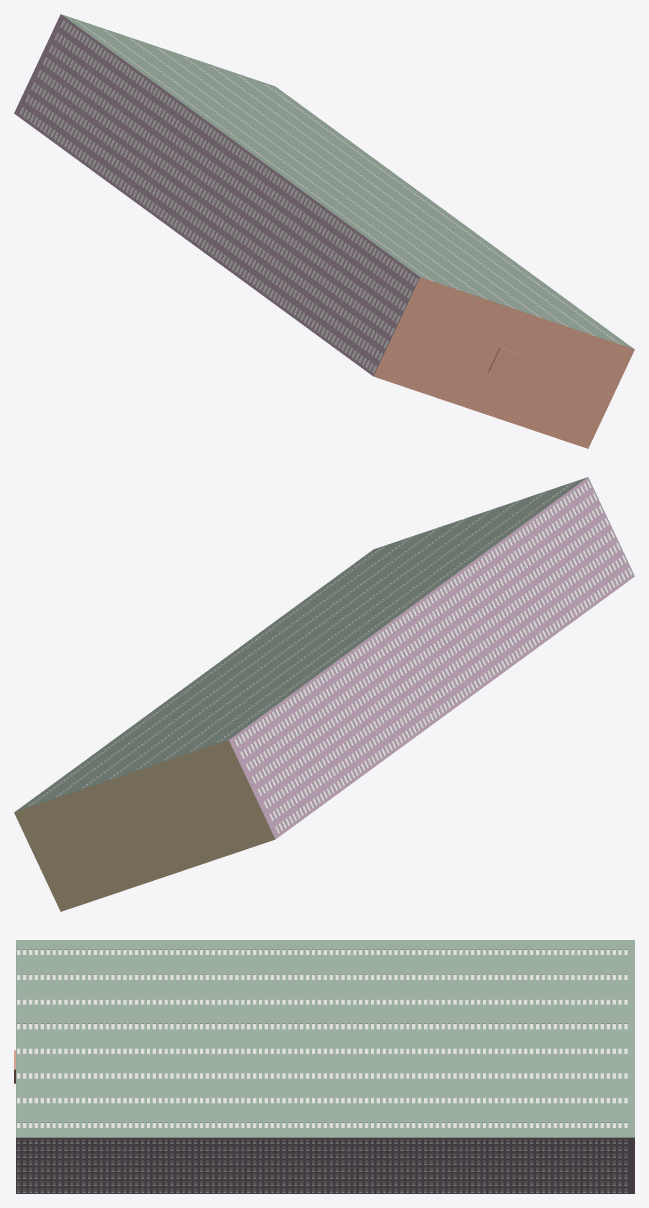
File: doitt-778052__lod_0.glb
3 renders of one model, top to bottom at view 1: azimuth 30°, elevation 25°; view 2: azimuth 150°, elevation 25°; view 3: azimuth 270°, elevation 25°, orthographic. The views are drawn at different scales.
Size of the model in its own units: 159 by 123 by 379.
